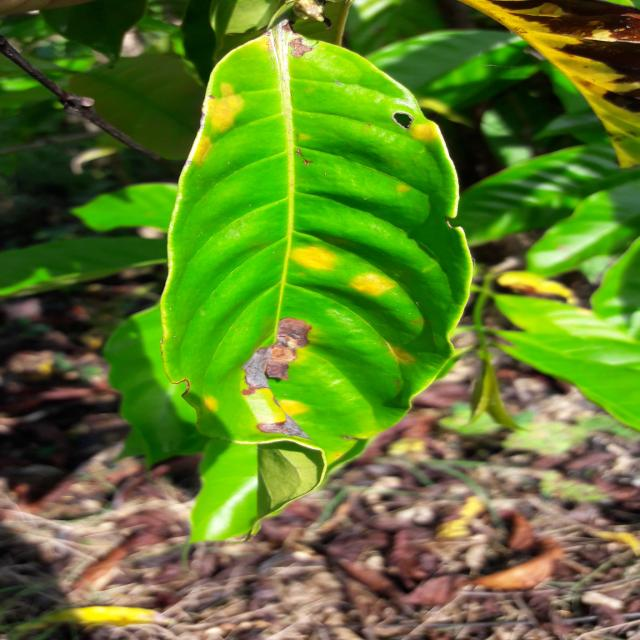Enfermedad-Roya: (104, 23, 473, 545)
